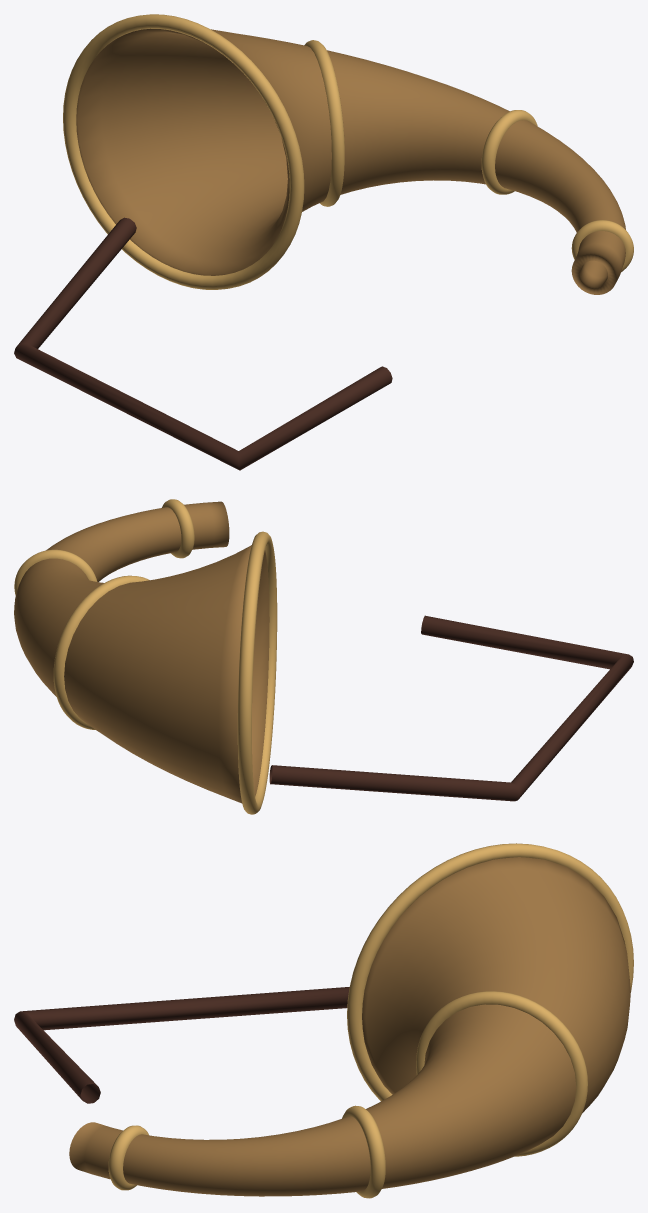
File: dispatch-courier-horn-v1.glb
3 renders of one model, top to bottom at view 1: azimuth 30°, elevation 25°; view 2: azimuth 150°, elevation 25°; view 3: azimuth 270°, elevation 25°, orthographic. The views are drawn at different scales.
Parts seen in each view (by area): view 1: CourierHorn, HornBinding.003, CourierCord, HornBinding.002, HornBinding.001, HornBinding; view 2: CourierHorn, CourierCord, HornBinding.003, HornBinding.002, HornBinding.001, HornBinding; view 3: CourierHorn, CourierCord, HornBinding.003, HornBinding.002, HornBinding.001, HornBinding.
Boxes of the visible parts, x1=… form: CourierHorn: x1=76, y1=28, x2=625, y2=294; HornBinding.003: x1=63, y1=14, x2=304, y2=289; CourierCord: x1=14, y1=217, x2=392, y2=470; HornBinding.002: x1=304, y1=40, x2=344, y2=206; HornBinding.001: x1=481, y1=110, x2=537, y2=194; HornBinding: x1=571, y1=220, x2=633, y2=272; CourierHorn: x1=14, y1=501, x2=269, y2=803; CourierCord: x1=269, y1=615, x2=633, y2=801; HornBinding.003: x1=237, y1=531, x2=277, y2=814; HornBinding.002: x1=53, y1=575, x2=149, y2=729; HornBinding.001: x1=14, y1=549, x2=97, y2=595; HornBinding: x1=162, y1=499, x2=194, y2=558; CourierHorn: x1=69, y1=857, x2=630, y2=1196; CourierCord: x1=14, y1=987, x2=349, y2=1103; HornBinding.003: x1=347, y1=843, x2=633, y2=1101; HornBinding.002: x1=416, y1=991, x2=587, y2=1156; HornBinding.001: x1=342, y1=1105, x2=385, y2=1198; HornBinding: x1=108, y1=1125, x2=148, y2=1190.
Bounding box in the file's own units: 1.16 × 0.558 × 1.1.
